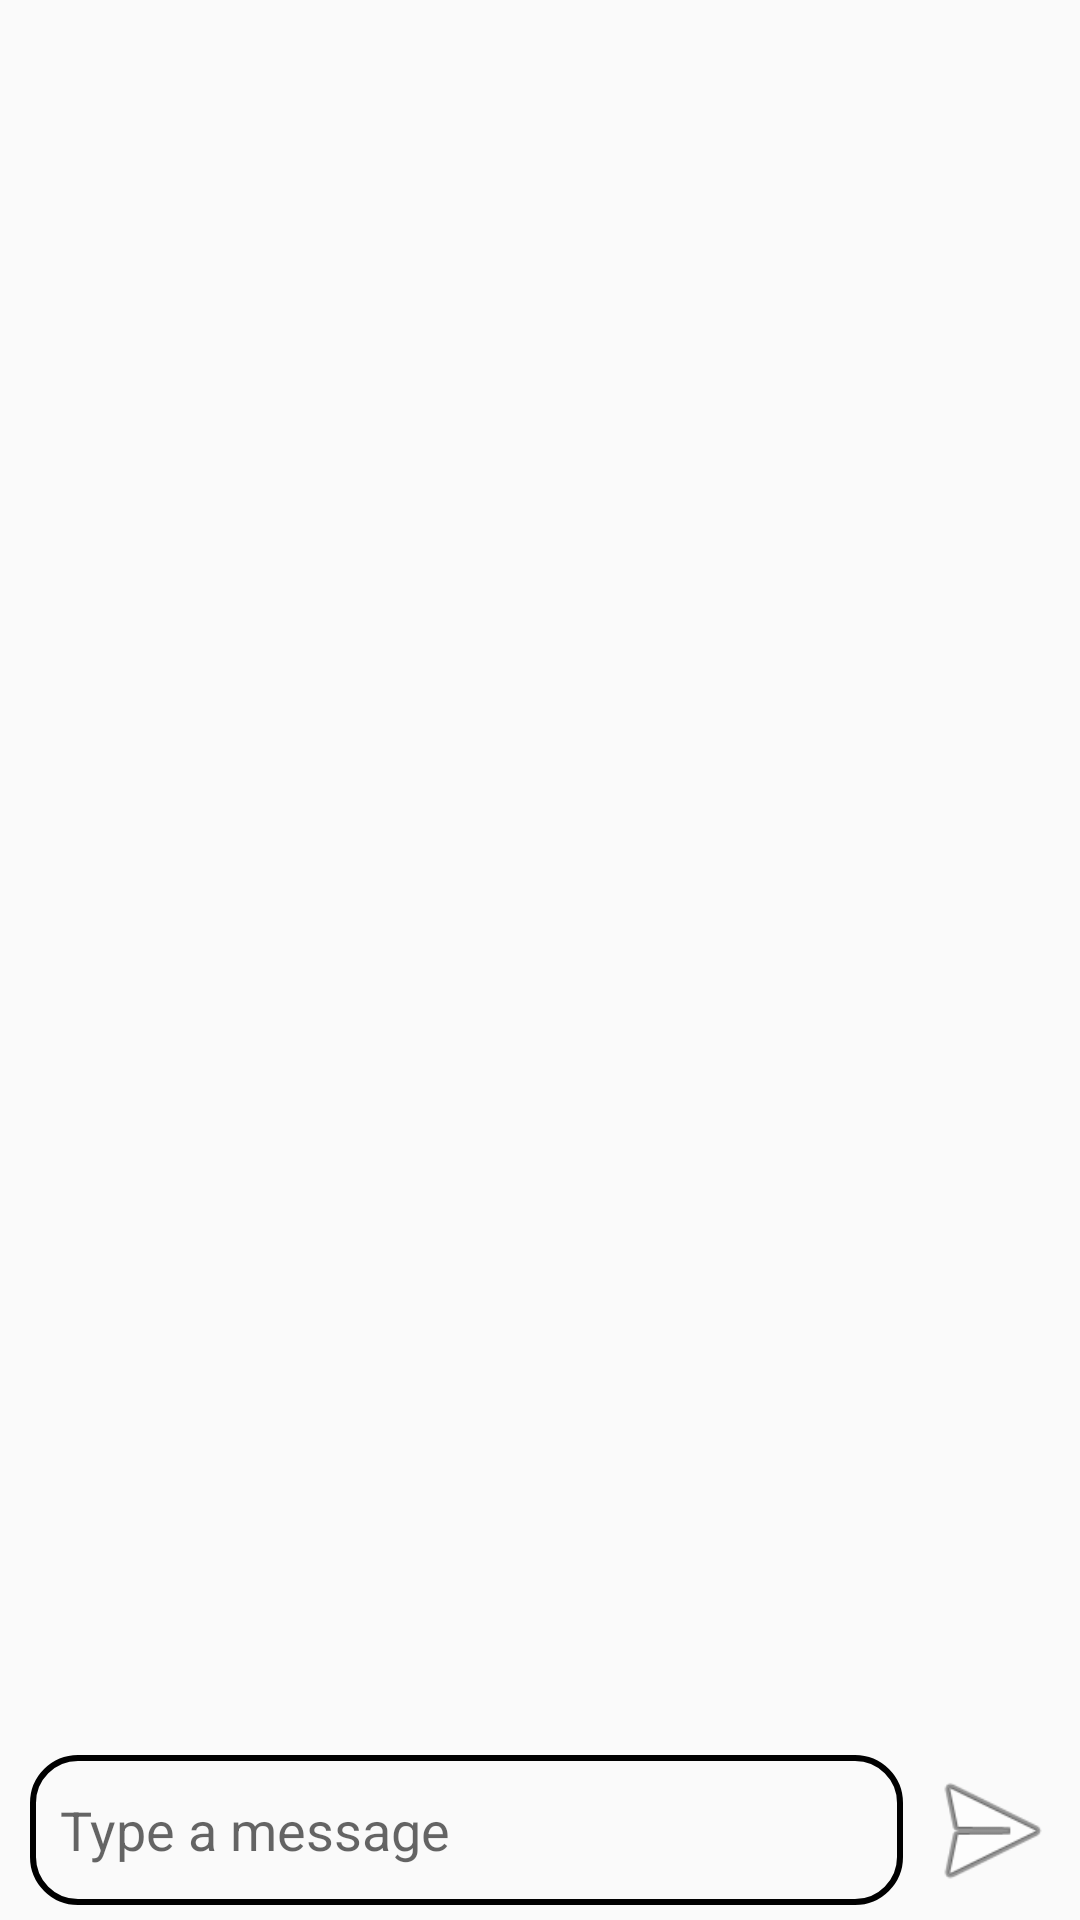

Where icons sit on this 1080*1920 app screen, as (x1, y1, x2, y2):
send: (945, 1783, 1041, 1878)
